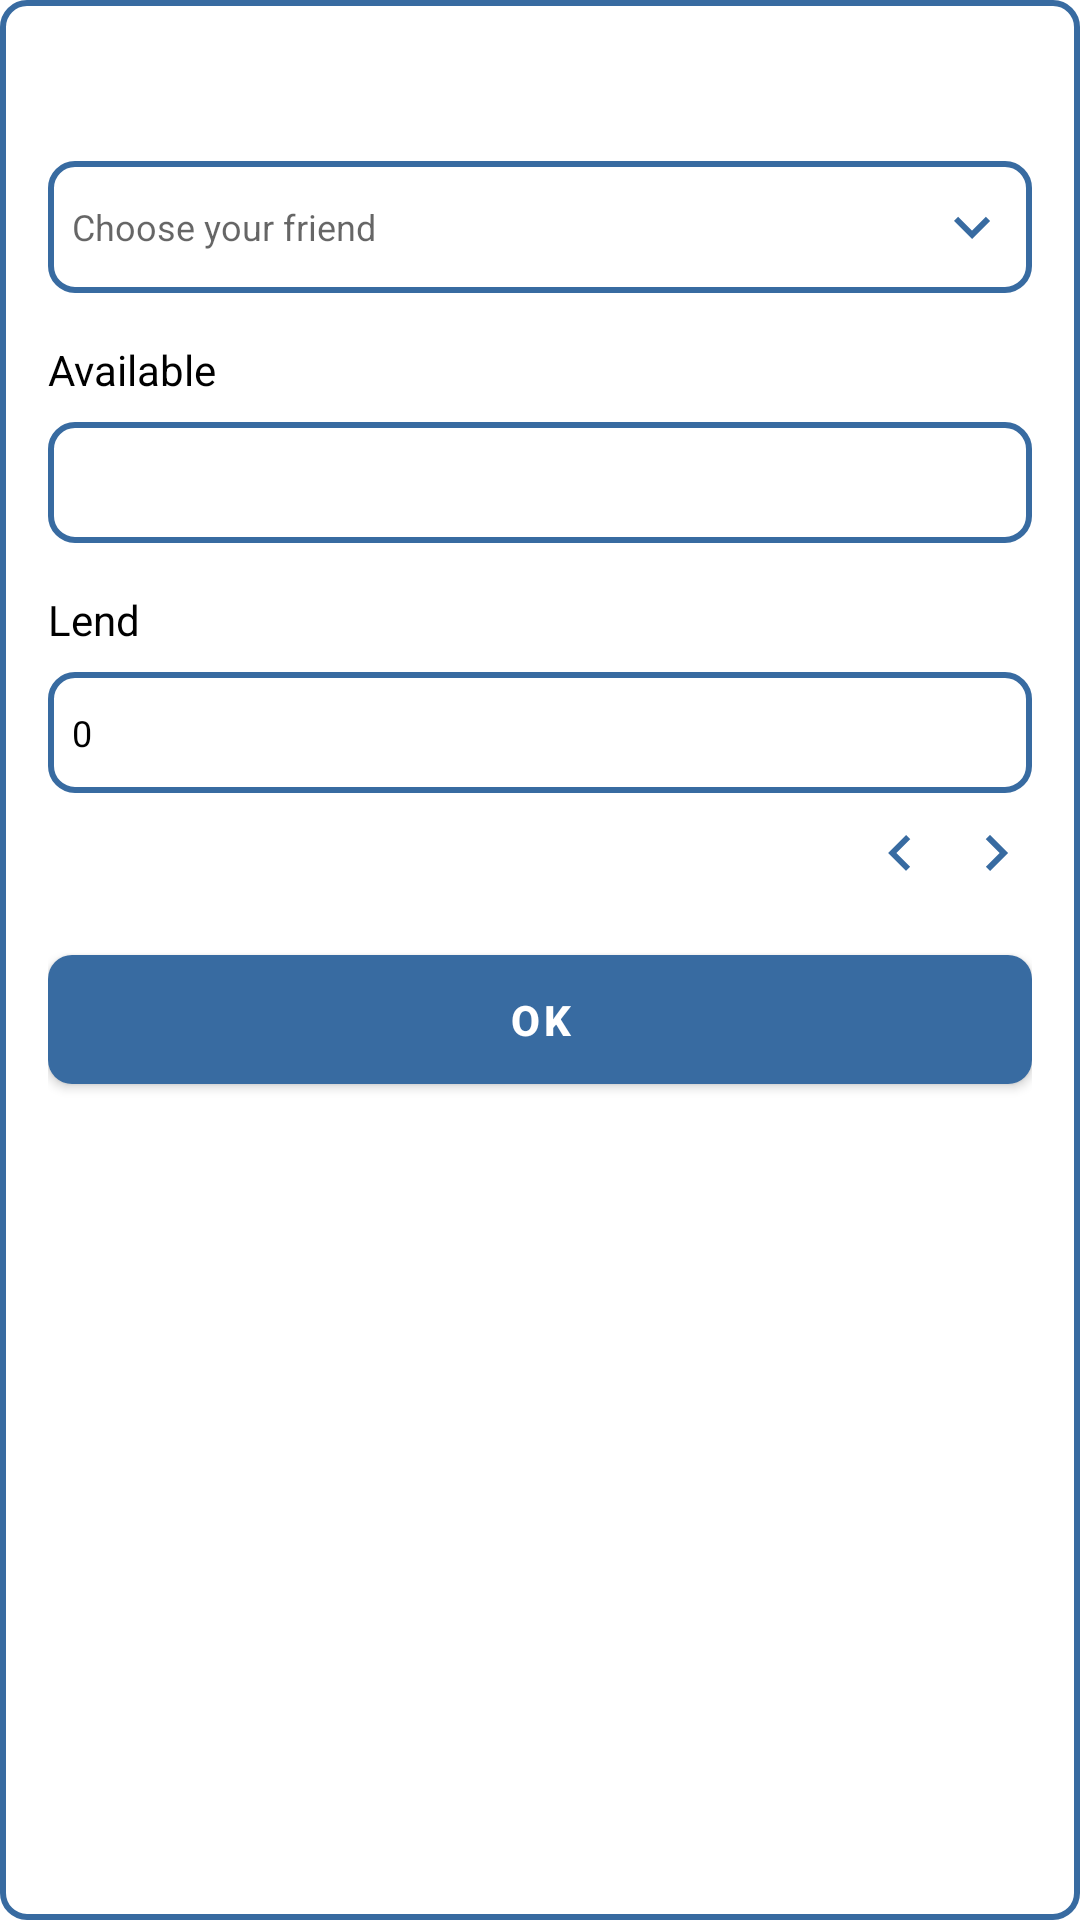

Icon click points for this 1080×1920 phone screenshot, format (x=x, y=y):
arrow left: (x=899, y=853)
arrow right: (x=997, y=853)
